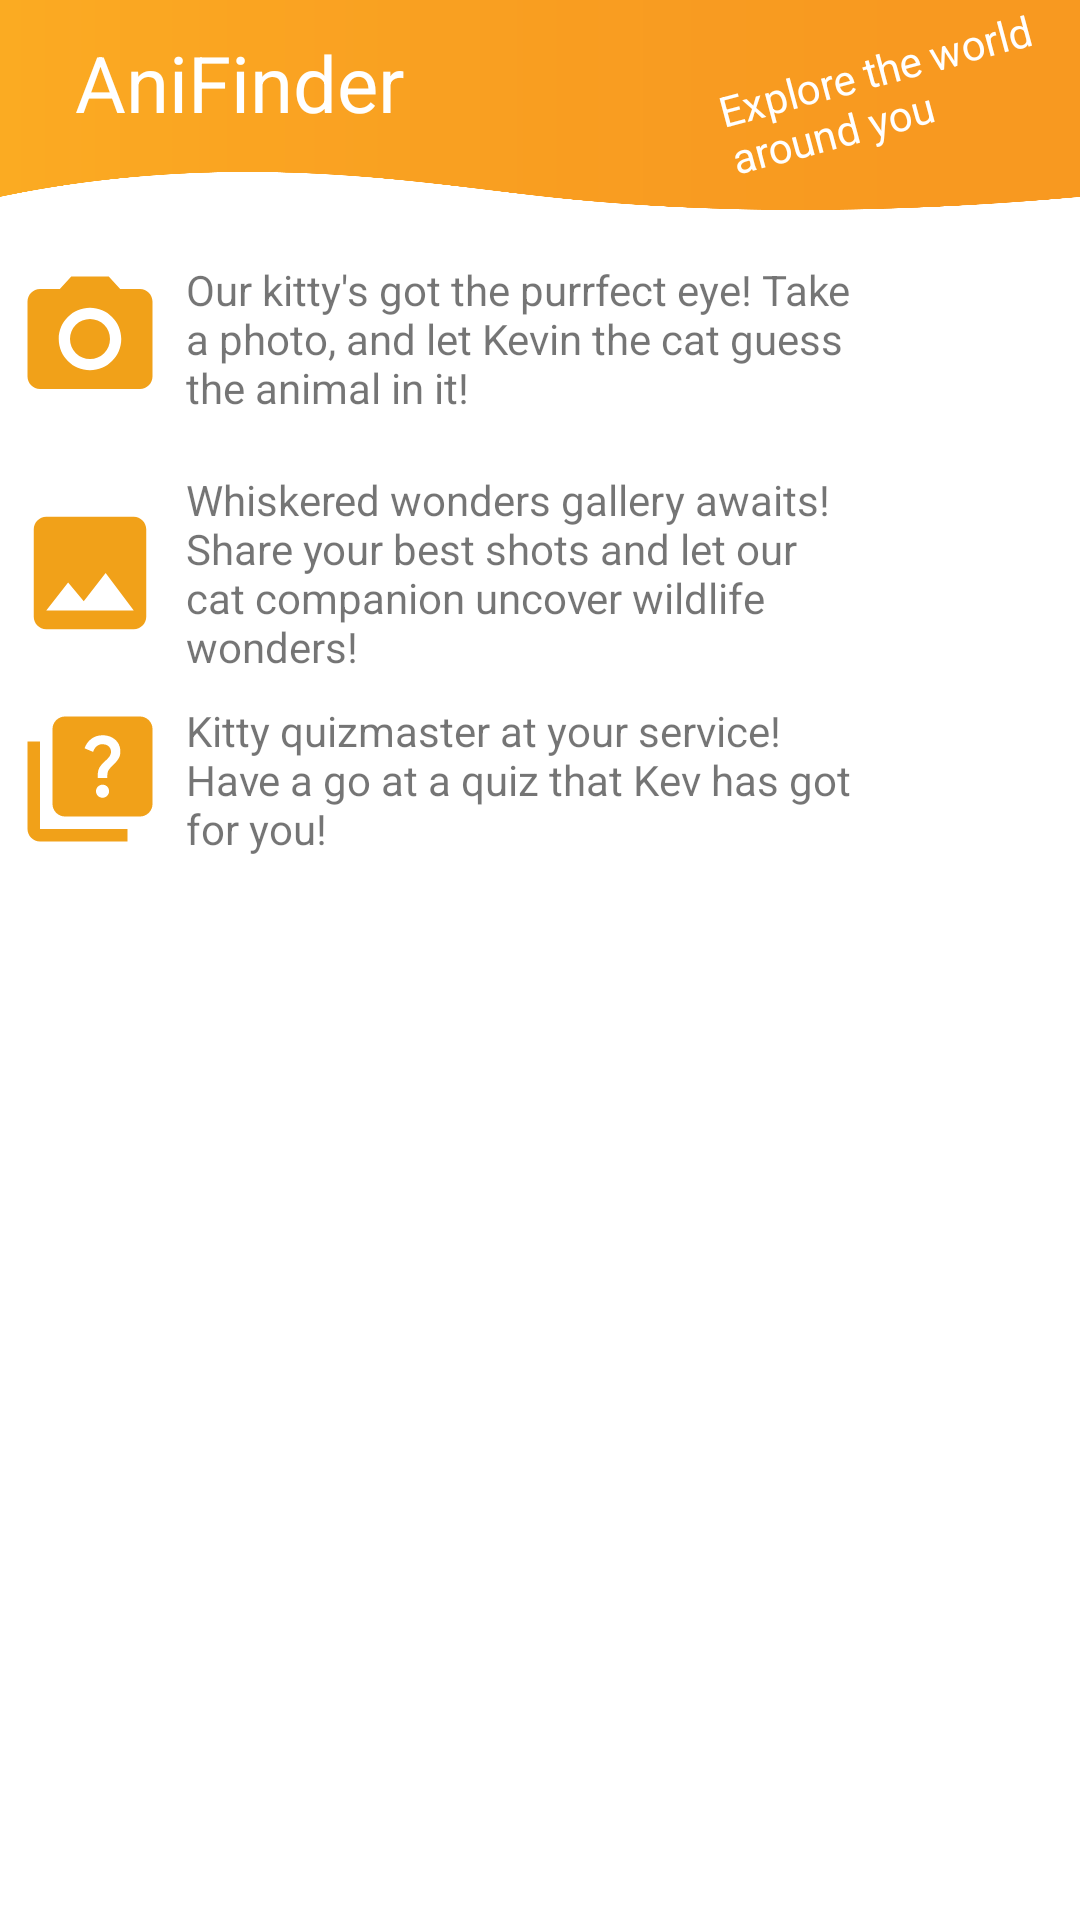

Point at icon controls on the screen. Image size 1080*1920, points as (x,y).
camera: (90,332)
